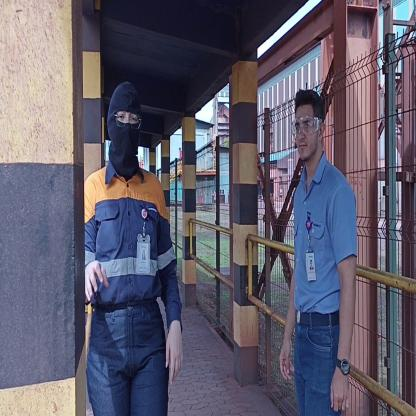Balaclava: (105, 80, 147, 173)
Operacional: (85, 175, 180, 300)
